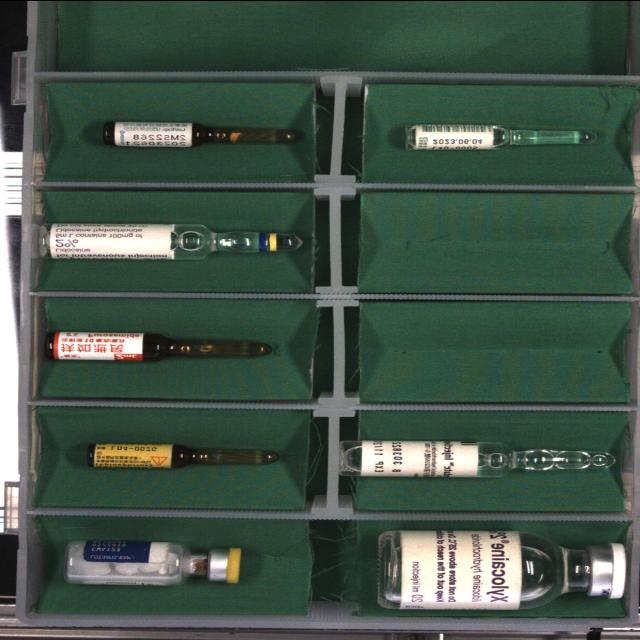Vials: (378, 529, 626, 609), (67, 540, 242, 584)
